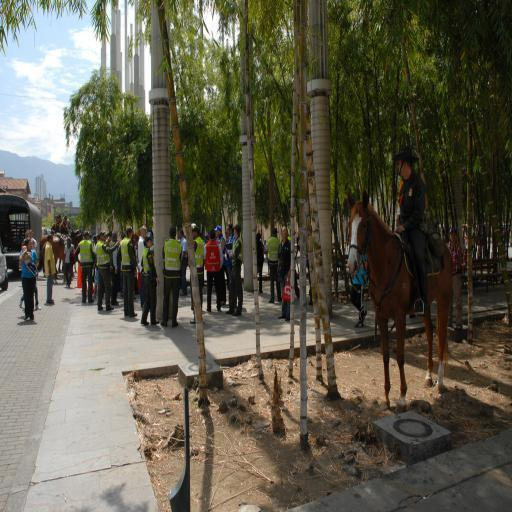horse: (346, 190, 454, 416)
